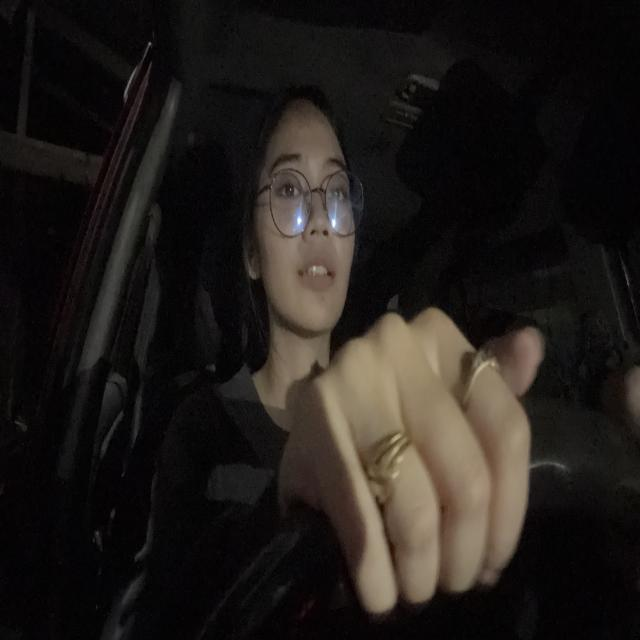open: (265, 143, 307, 217), (323, 150, 352, 220)
